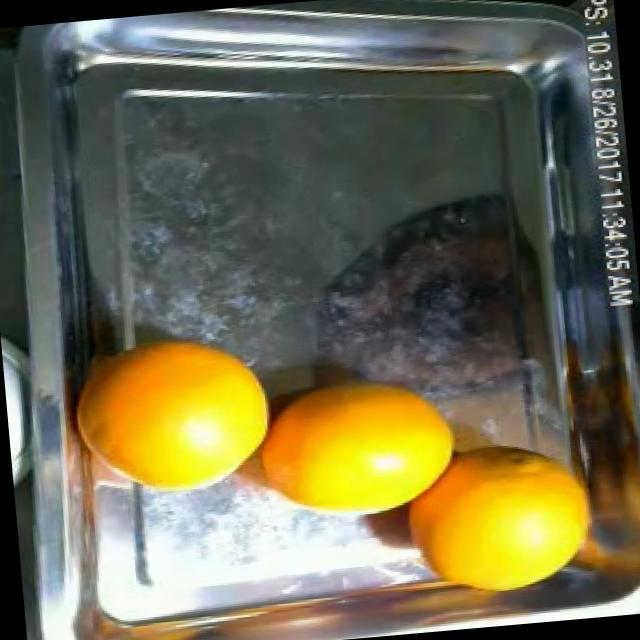Fruit: (64, 302, 296, 520), (250, 356, 472, 530), (359, 184, 548, 373)
